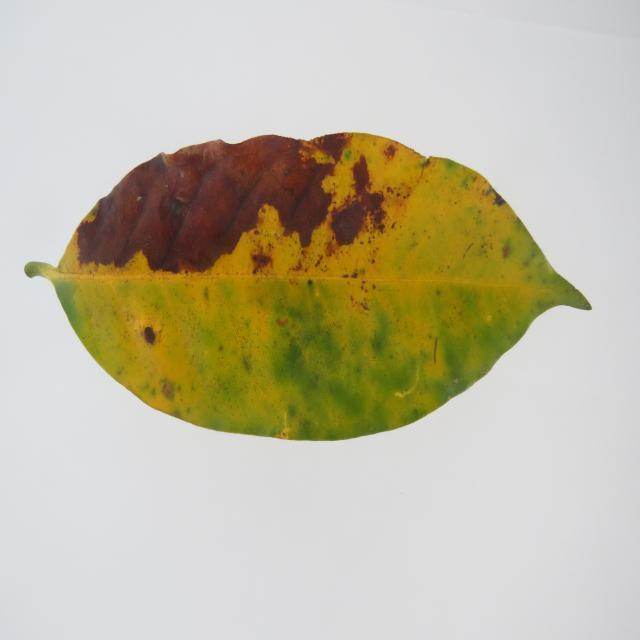DeficienciaNutricional-Potasio: (25, 133, 590, 440)
